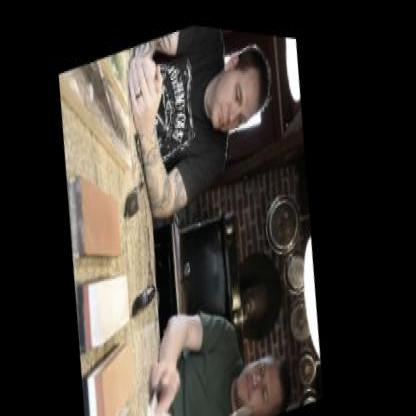knife: (211, 377, 269, 414)
